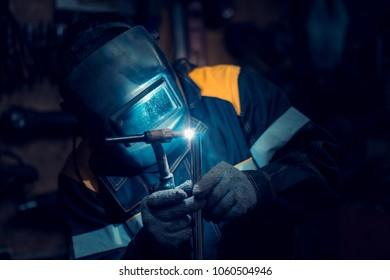gloves: (191, 160, 258, 224), (140, 179, 205, 244)
